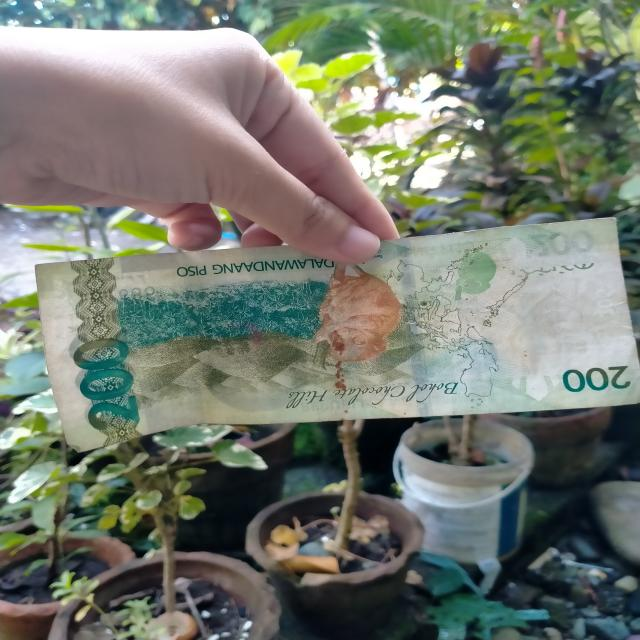see_through_mark: (486, 253, 605, 278)
value: (72, 329, 144, 434)
watermark: (513, 271, 605, 373)
